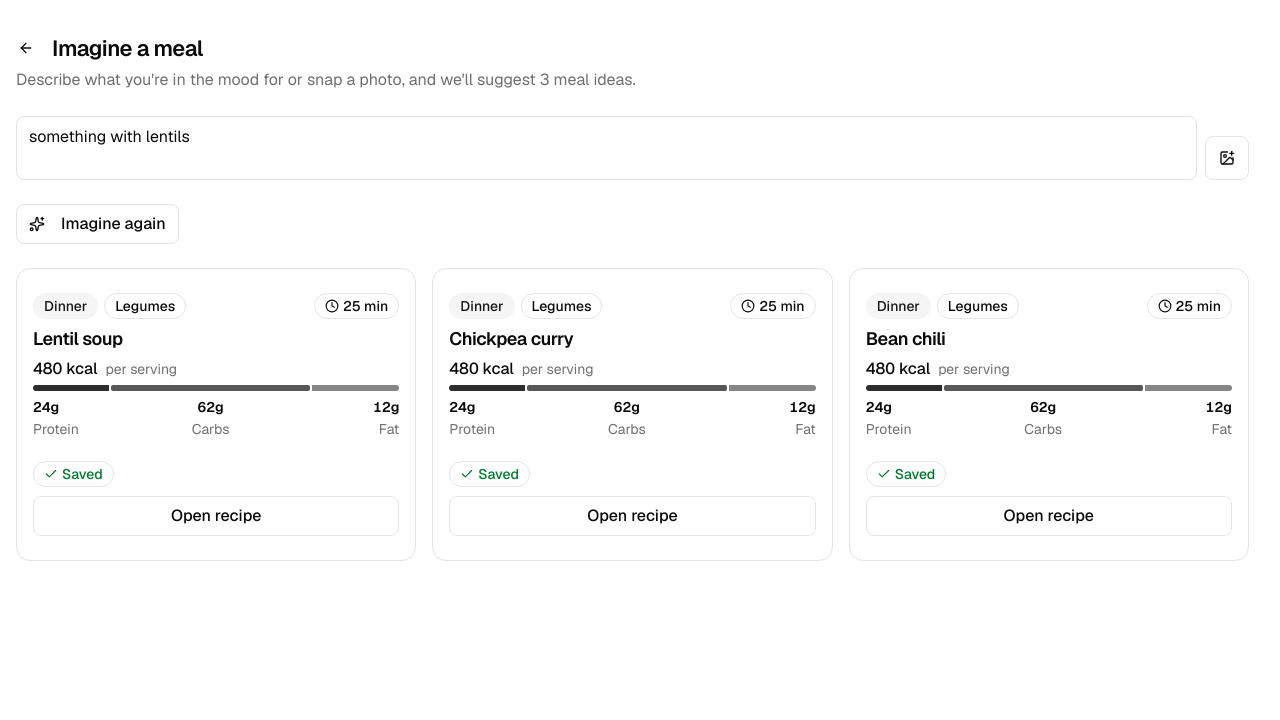
Test: ImagineClient saved ideas (HON-1270) › shows "Review and save" on every card of a new run
Expected: the number of links "Open recipe" is 3, [33,496,399,536]; [449,496,816,536]; [866,496,1232,536]
What coordinates should you click on to do the following:
click the button "Imagine again"
I would click on:
 (97, 224)
Its box is [16,204,179,244].
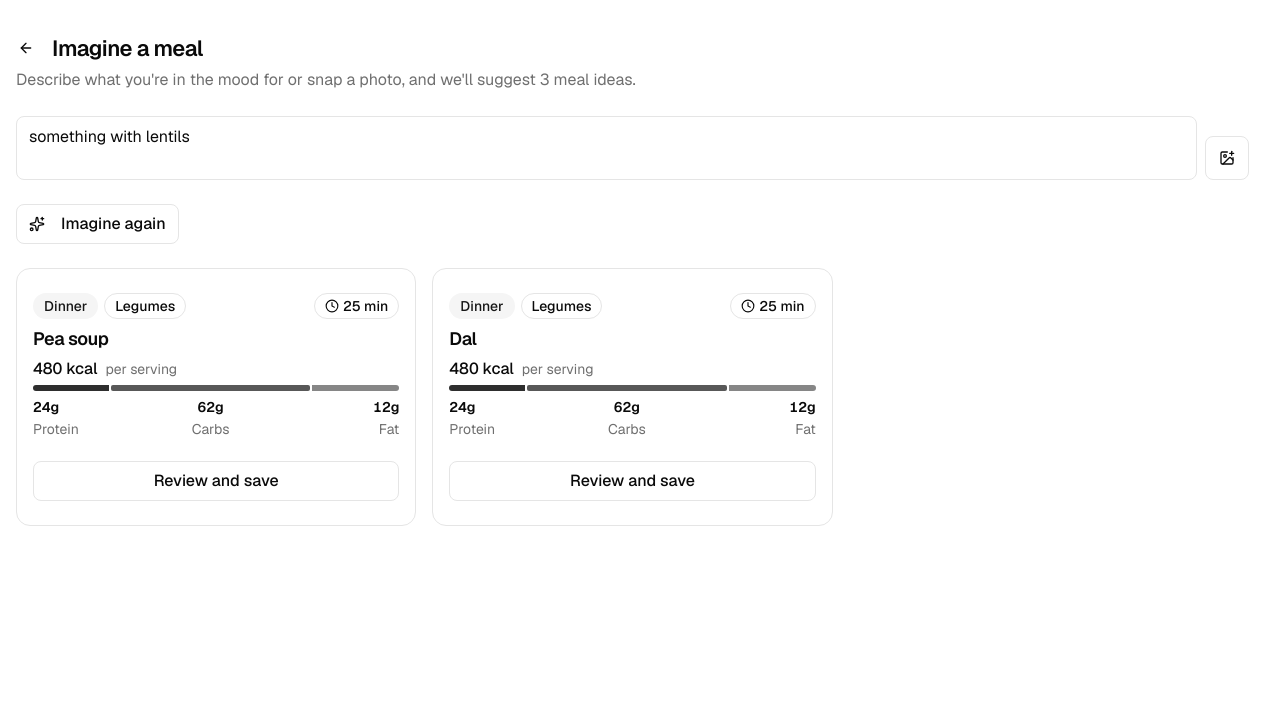
Expected: the heading "Pea soup" is shown, [33,325,108,353]
Expected: the number of buttons "Review and save" is 2, [33,461,399,501]; [449,461,816,501]
Expected: the link "Open recipe" is gone
